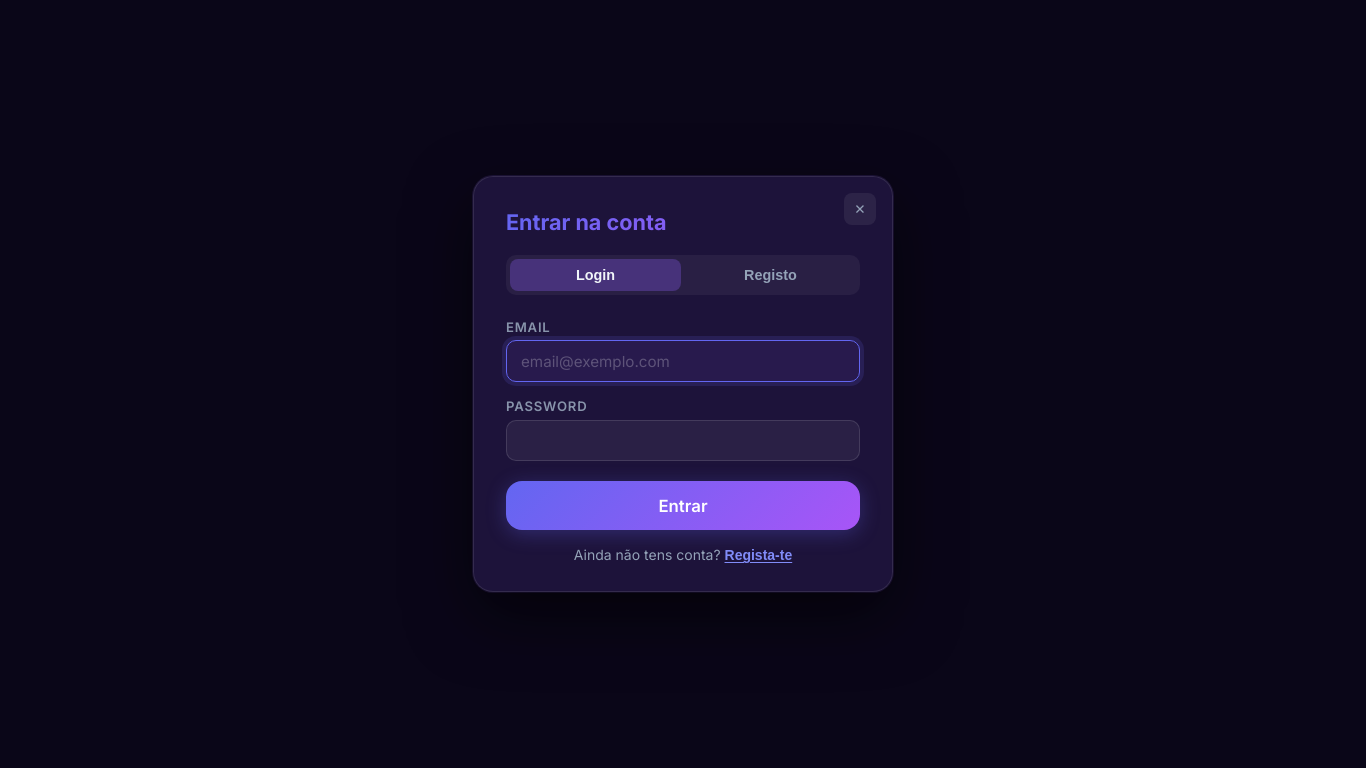
AuthModal › switches to register tab on click
Click the tab "Registo": (770, 275) [685,259,856,291]
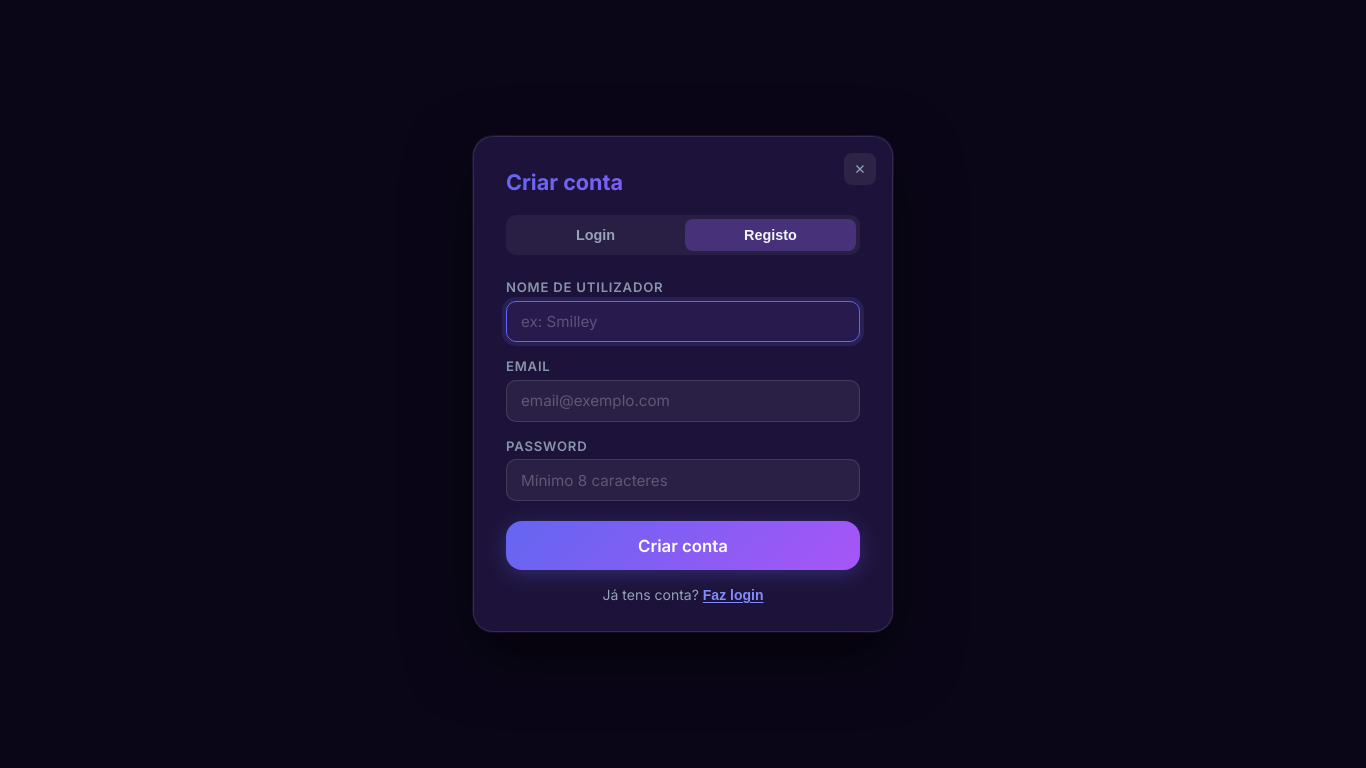
expect the field labelled "Nome de utilizador" is shown: met, box [506,301,860,342]
